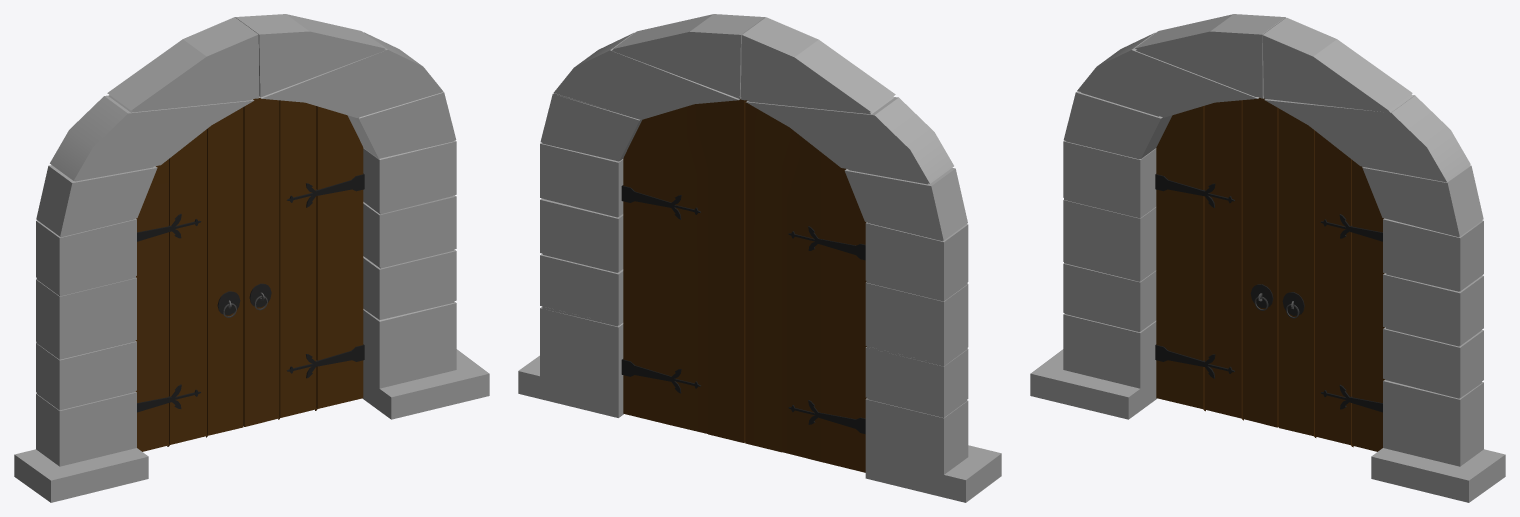
Rendered from Le_door.fbx.
3 renders of one model, left to right at view 1: azimuth 30°, elevation 25°; view 2: azimuth 150°, elevation 25°; view 3: azimuth 330°, elevation 25°, orthographic.
Parts seen in each view (by area): view 1: pasted__pCube4, group5_pasted__pCube2, pCube3; view 2: pasted__pCube4, group5_pasted__pCube2, pCube3; view 3: pasted__pCube4, pCube3, group5_pasted__pCube2.
Boxes of the visible parts, x1,y1,x2,y2 form: pasted__pCube4: (14, 14, 489, 502); group5_pasted__pCube2: (243, 98, 364, 426); pCube3: (135, 107, 243, 451); pasted__pCube4: (518, 14, 1001, 502); group5_pasted__pCube2: (621, 99, 745, 442); pCube3: (745, 100, 866, 472); pasted__pCube4: (1030, 14, 1505, 502); pCube3: (1155, 97, 1278, 427); group5_pasted__pCube2: (1278, 108, 1384, 451).
Size of the model in its own units: 20.6 by 18.2 by 3.05.
